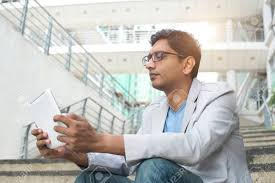Indian_Male: (144, 40, 192, 96)
